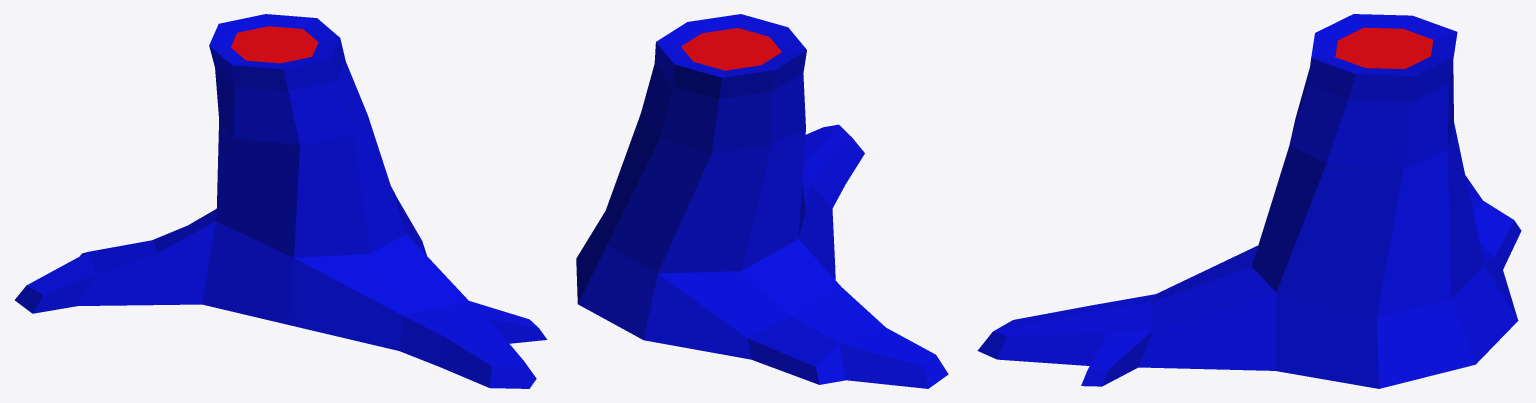
Rendered from SM_TreeStump1.fbx.
The picture shows the model from 3 angles, left to right: view 1: azimuth 30°, elevation 25°; view 2: azimuth 150°, elevation 25°; view 3: azimuth 270°, elevation 25°; orthographic projection. The views are drawn at different scales.
Parts seen in each view (by area): view 1: SM_TreeStump1; view 2: SM_TreeStump1; view 3: SM_TreeStump1.
Part boxes in pixels (left/top/right/bottom): SM_TreeStump1: left=15, top=14, right=547, bottom=388; SM_TreeStump1: left=576, top=14, right=948, bottom=388; SM_TreeStump1: left=977, top=14, right=1521, bottom=388.
Bounding box in the file's own units: 116 × 70.67 × 132.
